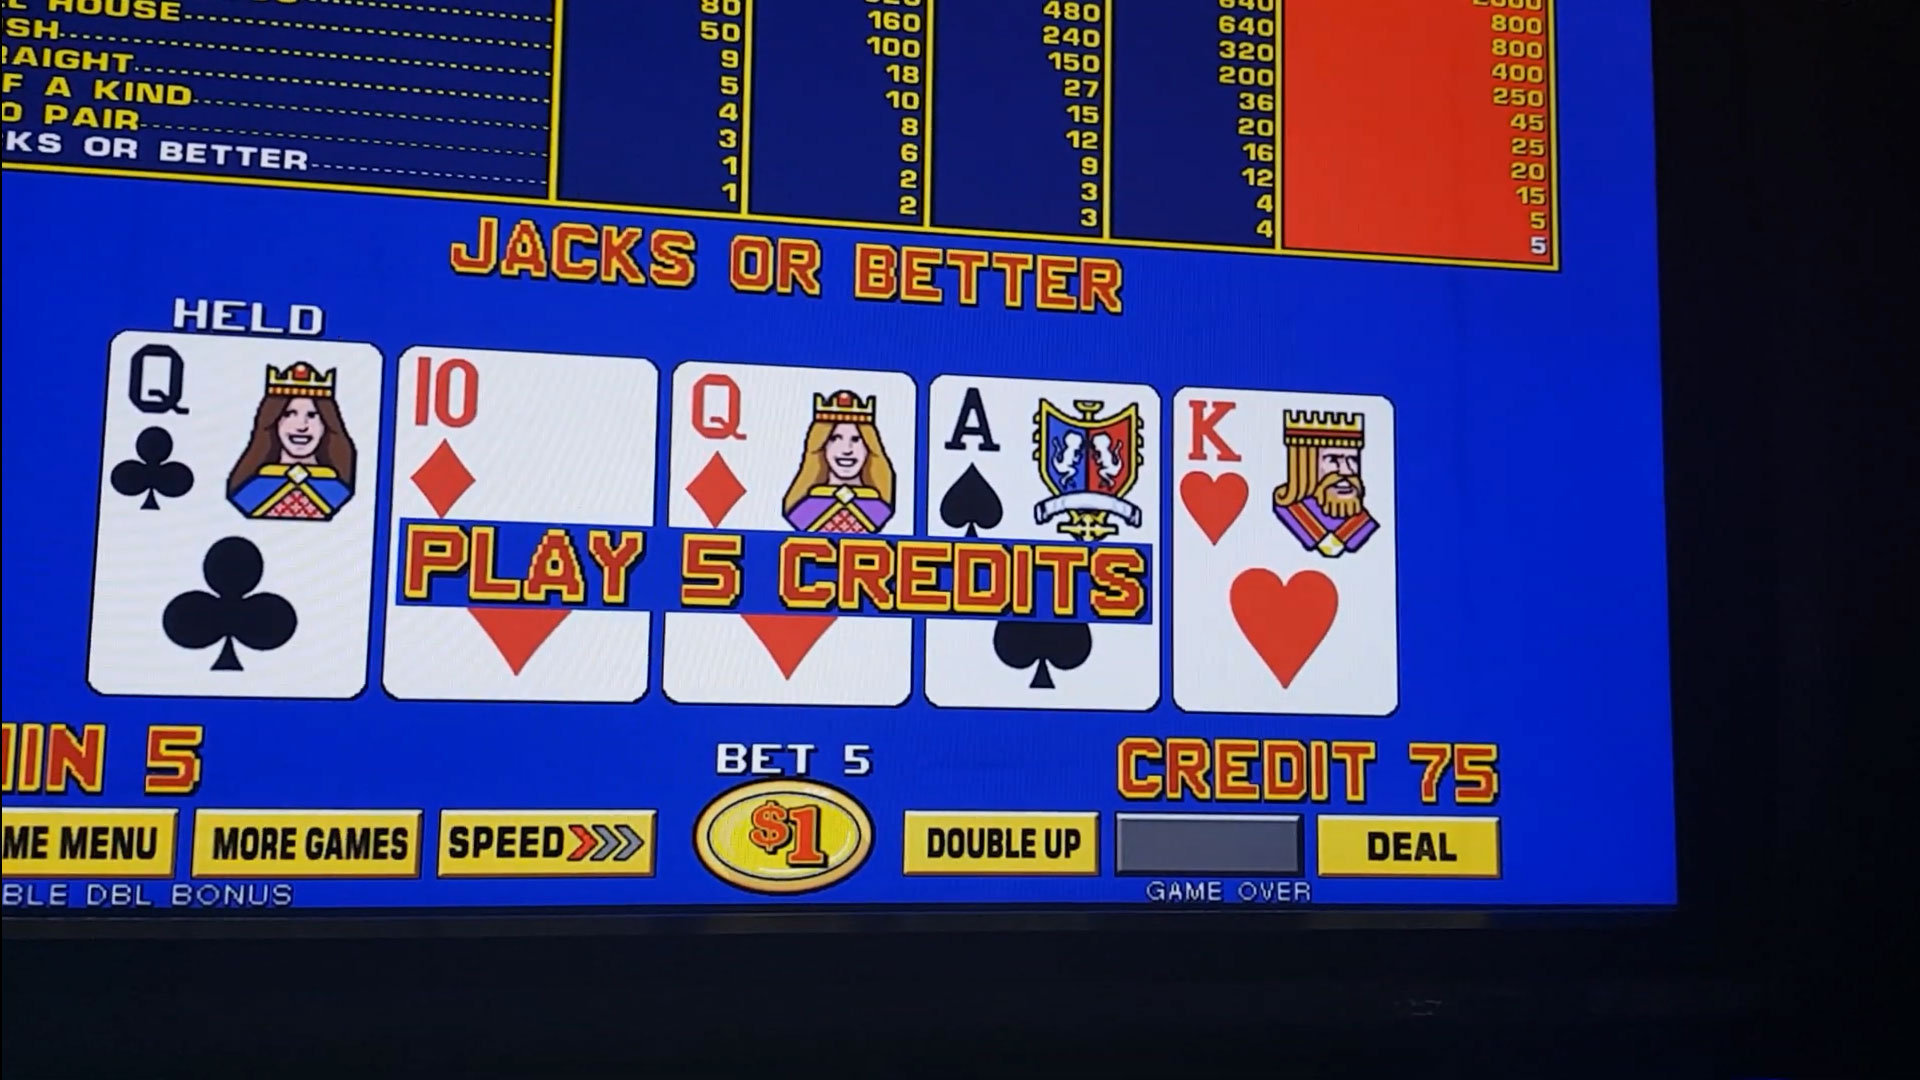CQ: (113, 345, 373, 531)
DQ: (675, 377, 909, 522)
DT: (404, 363, 647, 517)
HK: (1179, 394, 1390, 554)
SA: (934, 388, 1151, 535)
